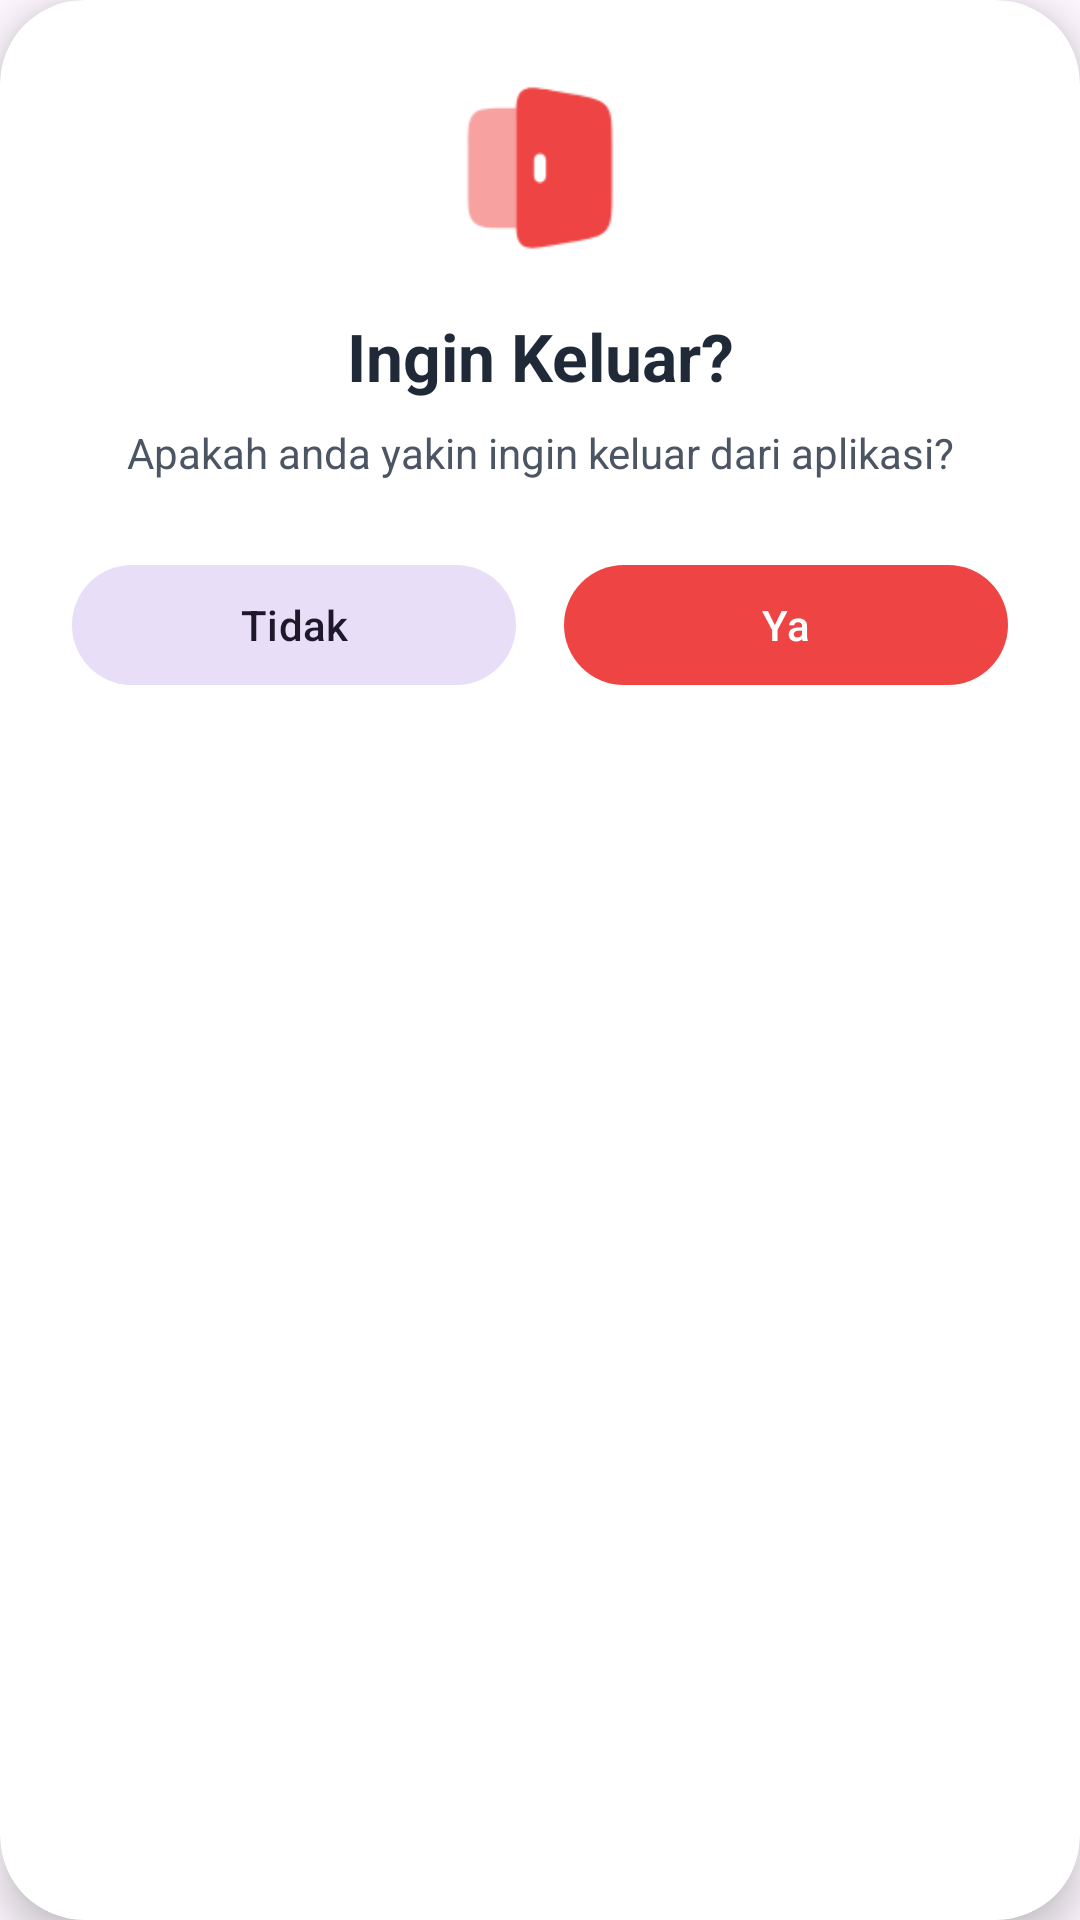

Icons on this 1080 x 1920 Android screen, each with the point to tap as [x,y]:
Exit Icon: [540,168]
